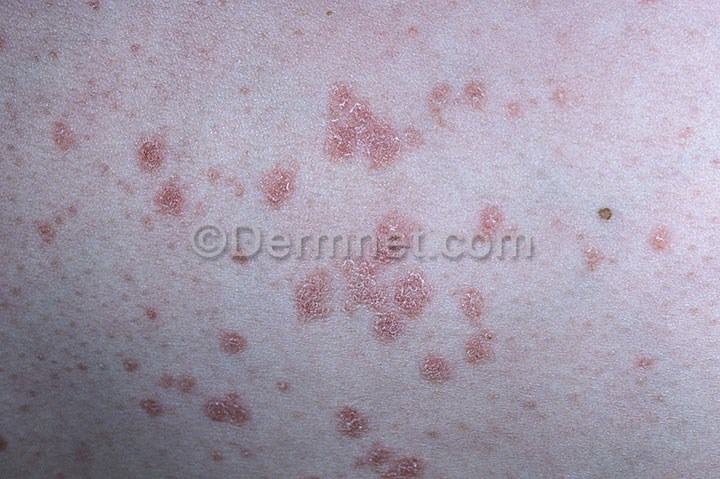Psoriasis: (65, 64, 542, 215), (288, 218, 533, 400), (97, 300, 273, 432), (559, 185, 691, 285), (309, 403, 436, 478)
